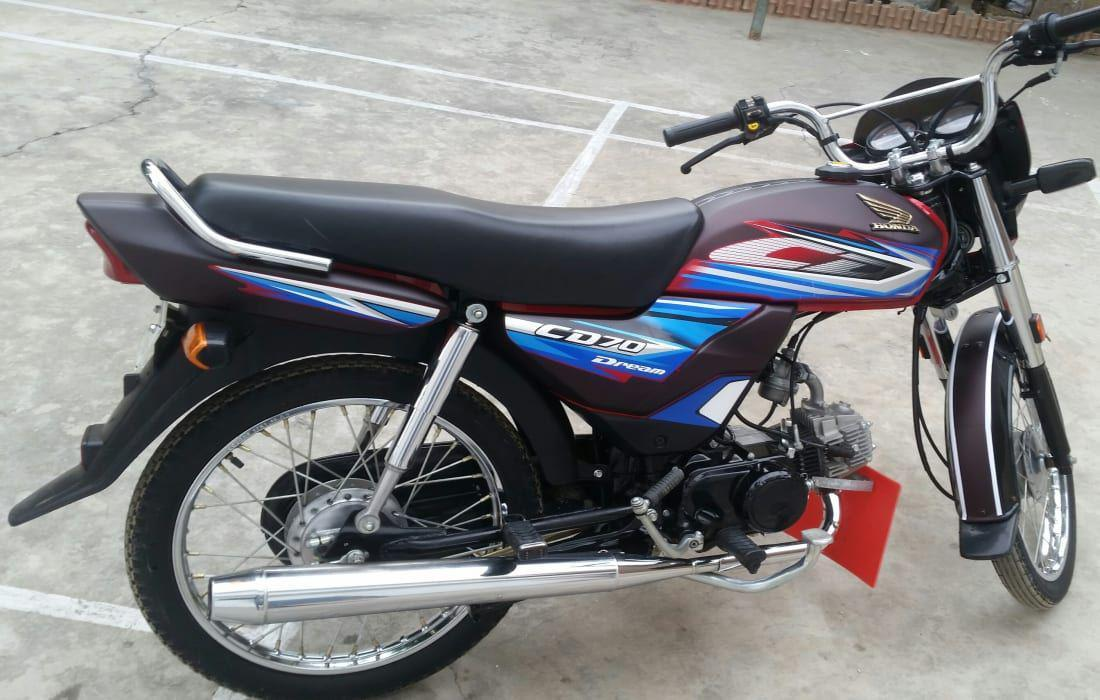bike: (59, 4, 1078, 700)
